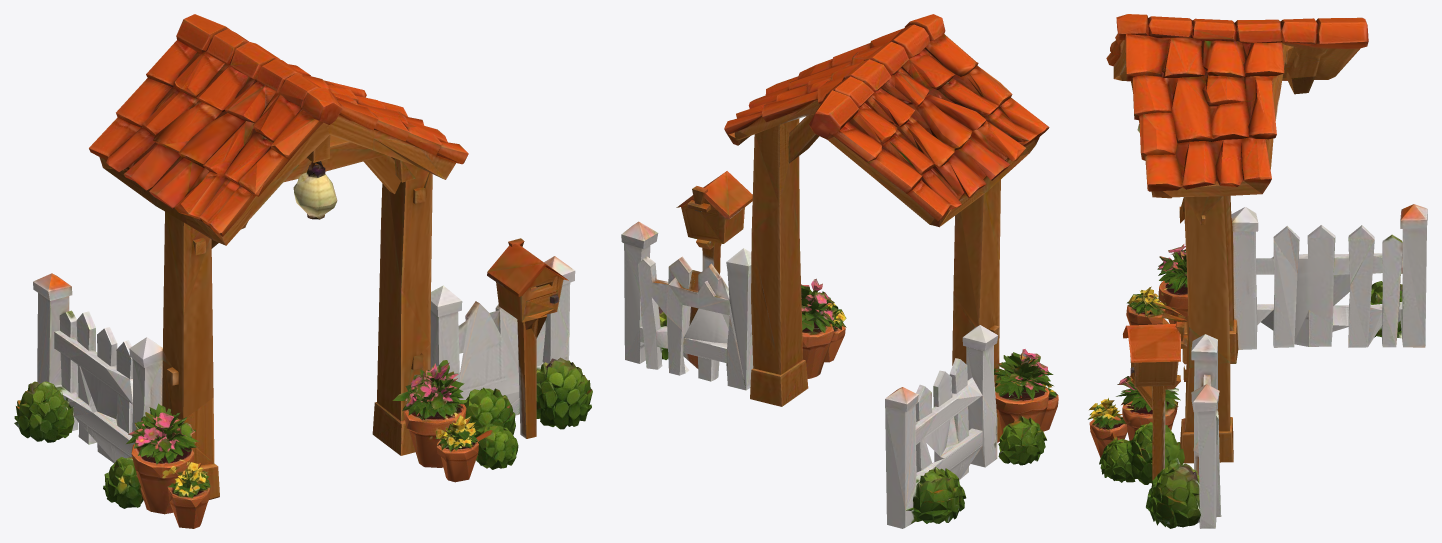
Rendered from gate_home.glb.
3 views of the same model, side by side, from view 1: azimuth 30°, elevation 25°; view 2: azimuth 150°, elevation 25°; view 3: azimuth 270°, elevation 25° (orthographic). The views are drawn at different scales.
Size of the model in its own units: 1.89 by 1.6 by 1.28.
Materials: 1 (1 with a texture image).
